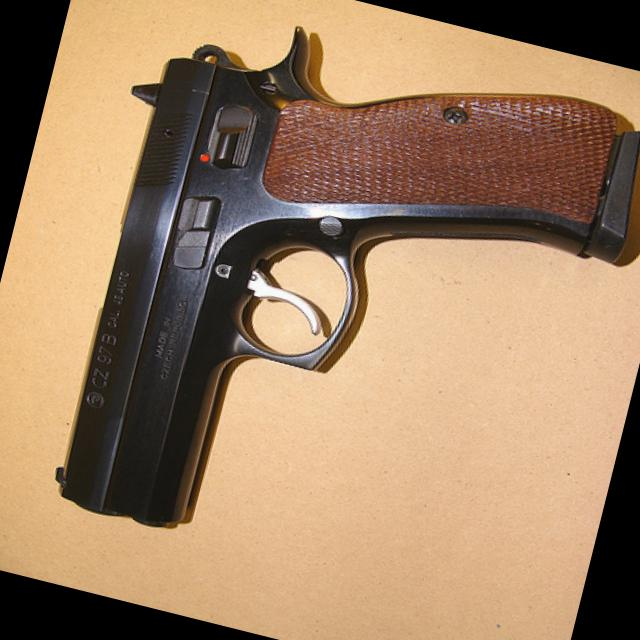handgun: (27, 0, 639, 623)
